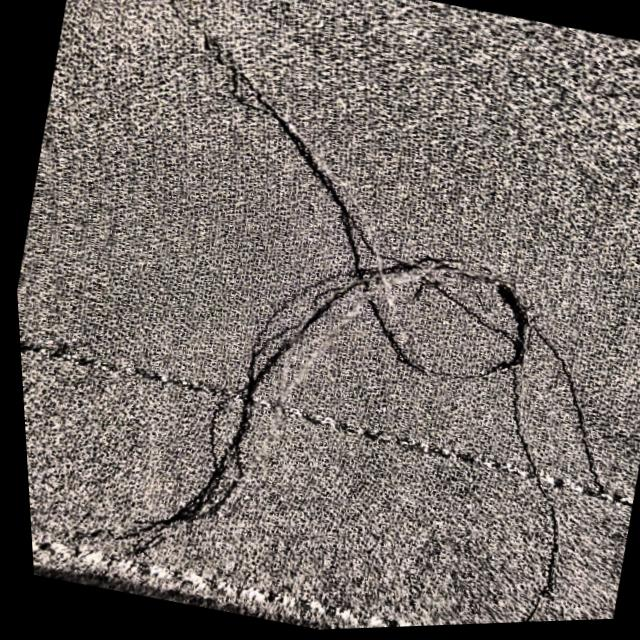Stitch: (73, 142, 640, 567)
